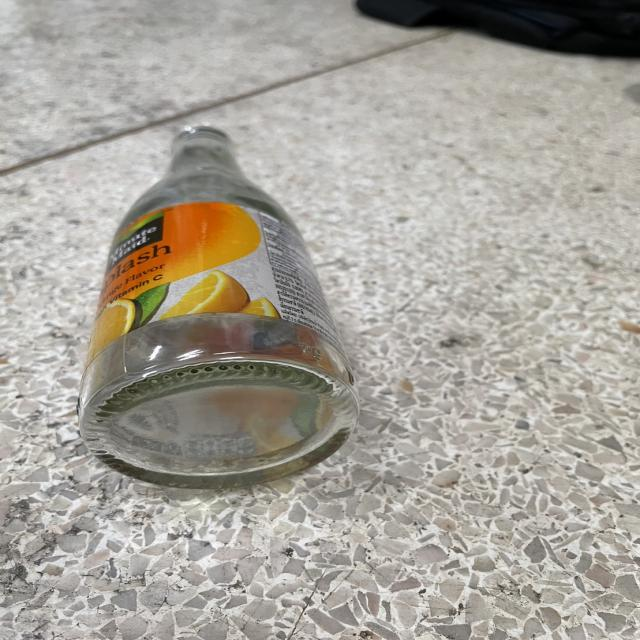glass-bottle: (54, 91, 388, 511)
